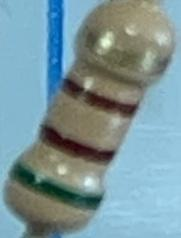Brown: (56, 74, 142, 126), (35, 122, 117, 172)
Green: (6, 158, 103, 217)
Side-Silver: (73, 20, 176, 81)
